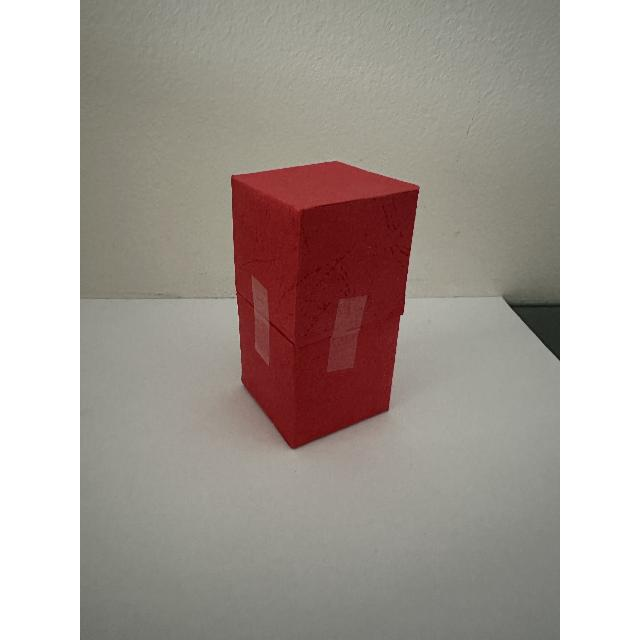red_cube: (229, 159, 439, 455)
